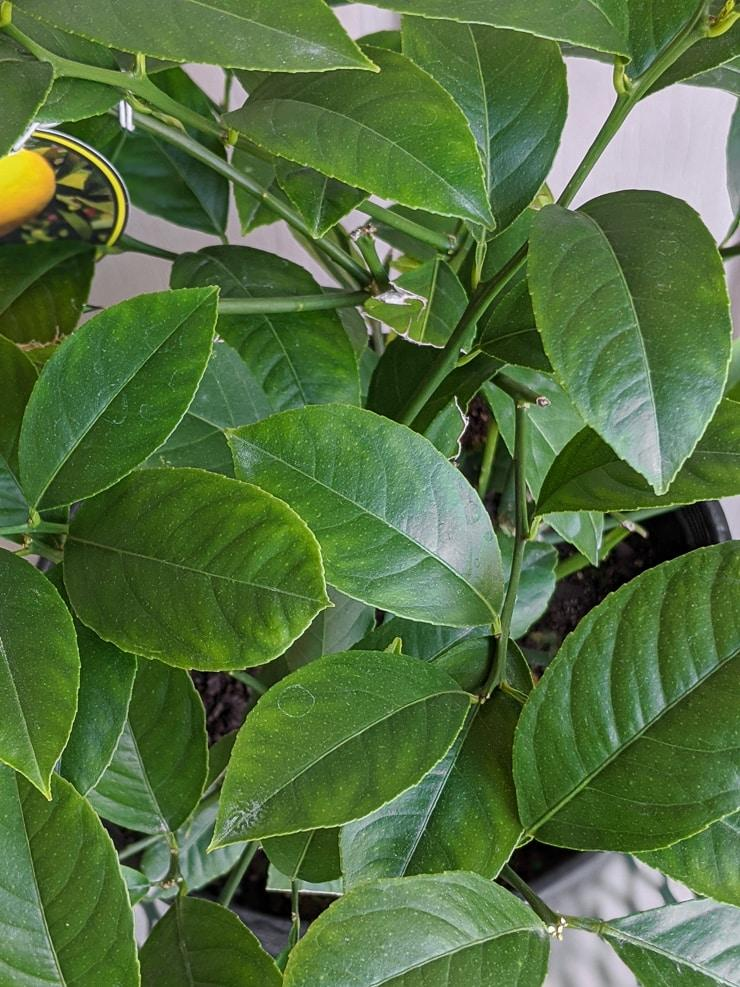Healthy Citrus: (515, 537, 740, 862), (224, 397, 505, 646), (525, 199, 735, 505), (60, 462, 327, 675), (200, 645, 463, 854), (227, 45, 499, 233), (25, 272, 225, 512), (286, 869, 553, 987), (0, 0, 382, 76), (0, 794, 151, 983), (0, 549, 88, 794)
